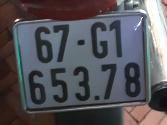1: (108, 19, 124, 62)
3: (70, 64, 91, 102)
5: (48, 65, 69, 104)
6: (30, 26, 55, 63), (25, 65, 47, 106)
7: (100, 61, 117, 102), (54, 24, 72, 61)
8: (122, 62, 141, 100)
G: (88, 21, 112, 60)
